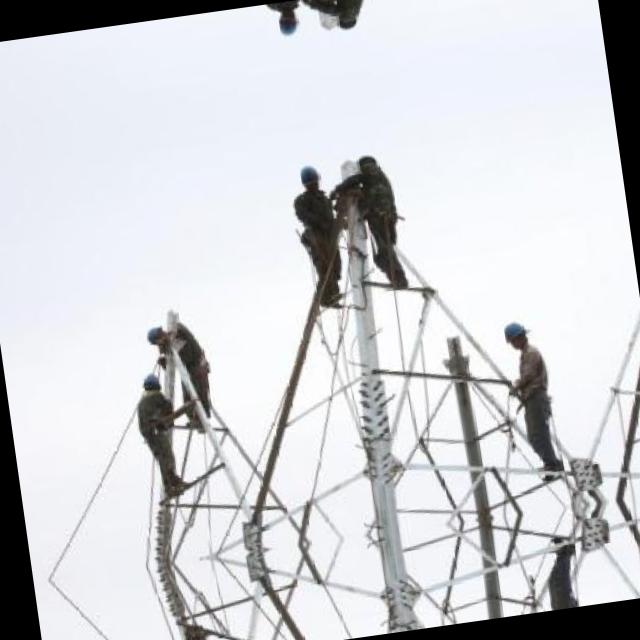helmet: (498, 316, 531, 350), (295, 158, 319, 190), (274, 9, 298, 41), (139, 369, 164, 396), (146, 321, 172, 346)
